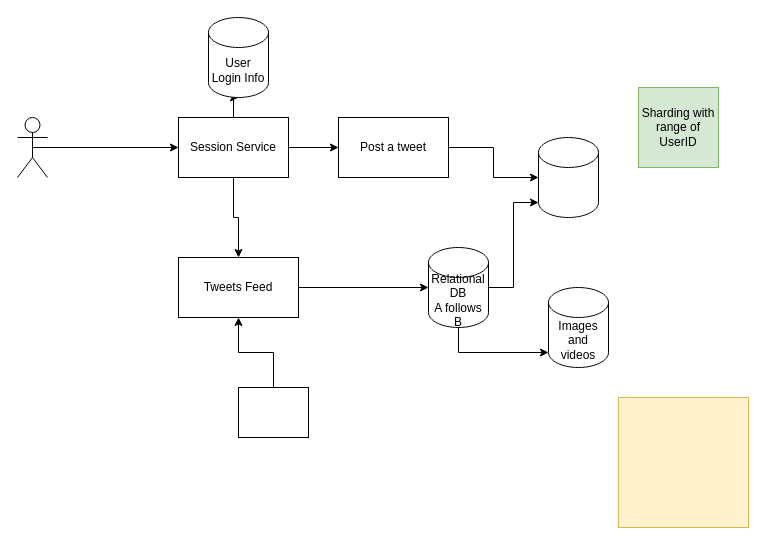
Some shapes in this 766 by 545 pixel diagram are drawn without their labels. The box of each missing label's shape, as (x1, y1, x2, y2) in pixels:
Actor: (16, 116, 48, 178)
CDN based on geography: (238, 386, 308, 438)
Message queue for tweets Horizontal scaling with load balancing as required: (618, 396, 748, 528)
Tweets 140 characters: (538, 136, 598, 218)
